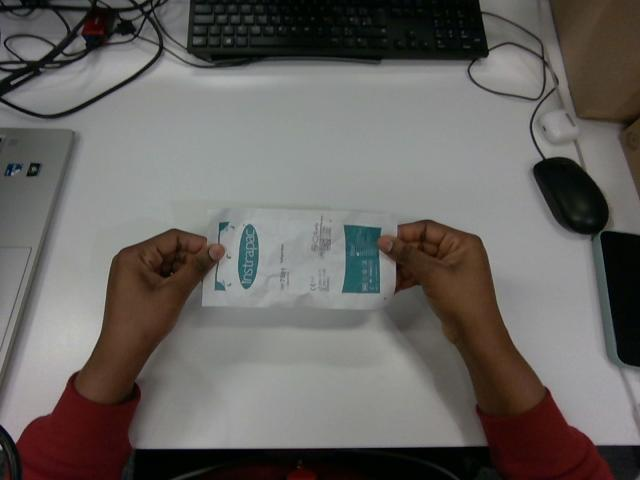gallipot: (203, 208, 396, 309)
